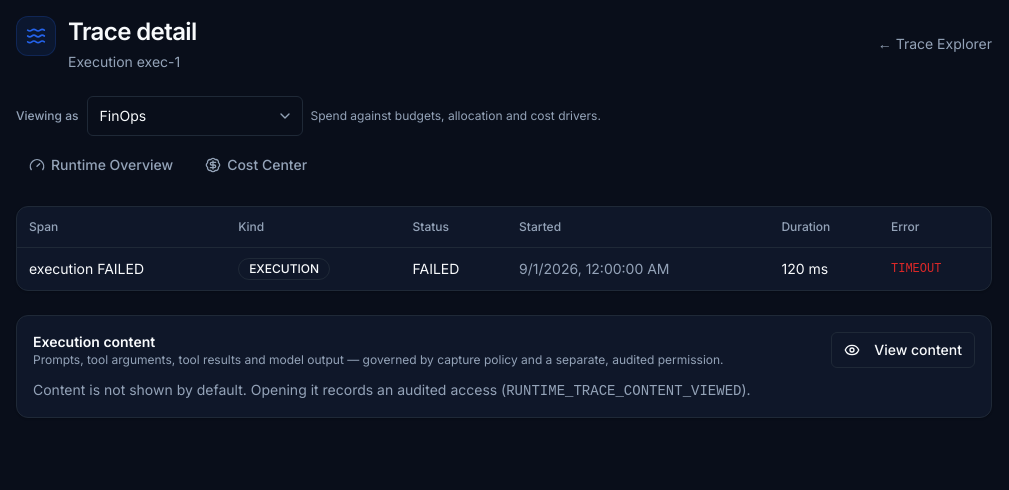
Scenario: content governance (§4.3) › AC-07 — METADATA_ONLY capture reads as "no content captured", not an error
Click the button "View content". click: {"x": 903, "y": 350}
box: [831,332,975,368]
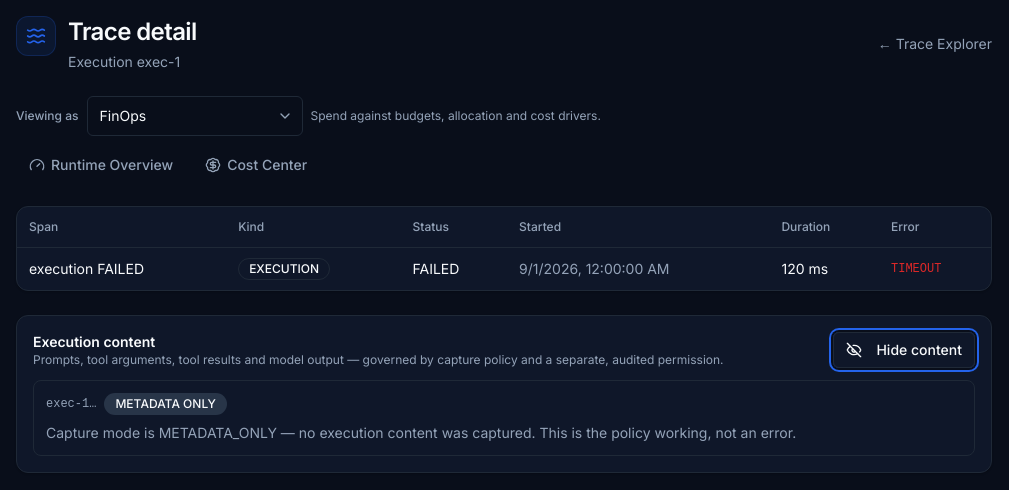
Expected: the text "no execution content was captured" shows "policy working, not an error", [46,424,796,440]
